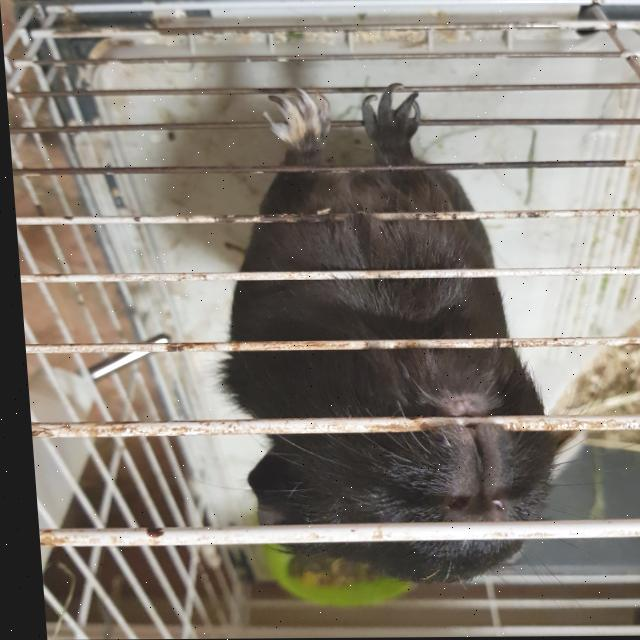guinea pig: (193, 81, 556, 595)
